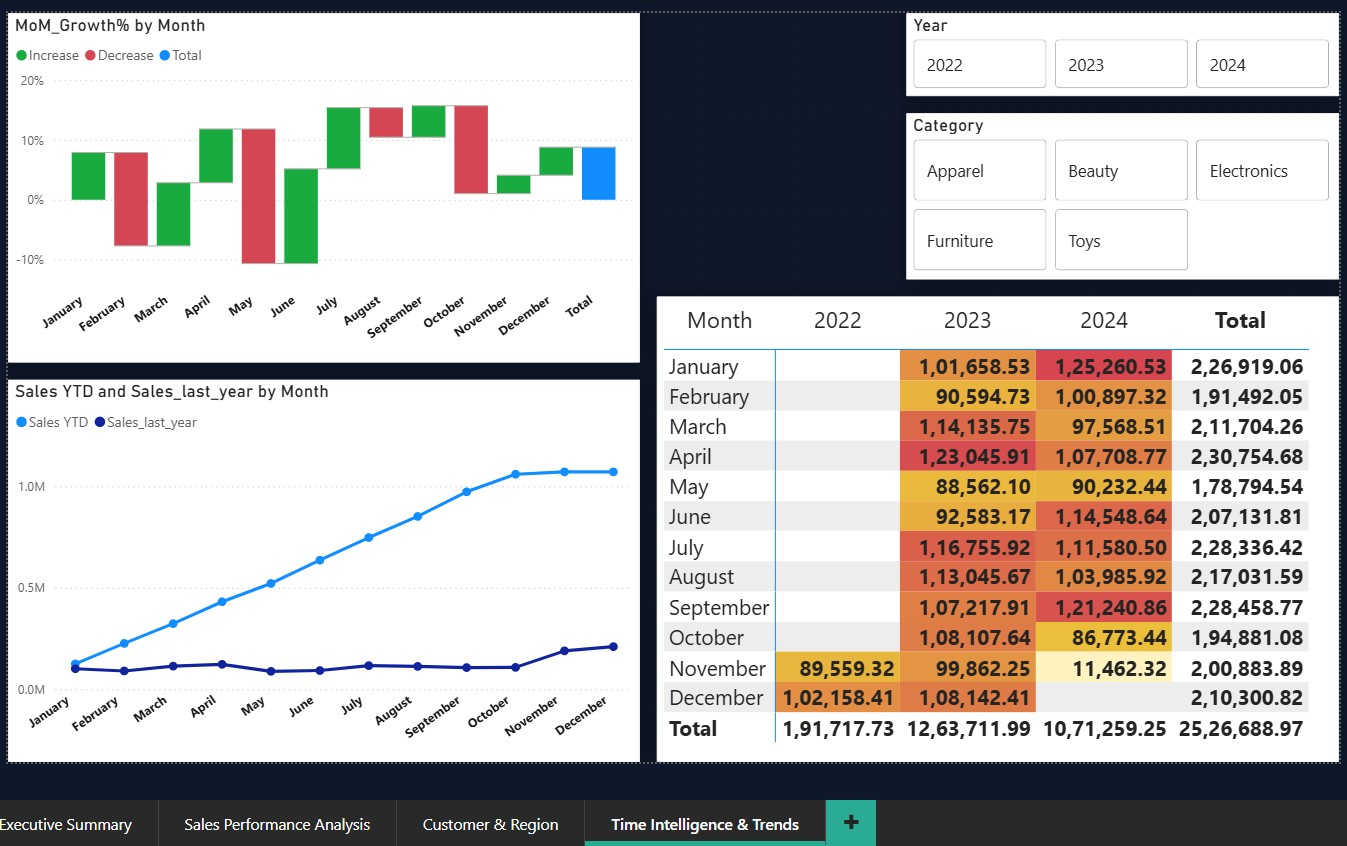

What the dashboard file says about the page in this screenshot:
{"tool":"powerbi","page":{"name":"Time Intelligence & Trends","canvas":[1280,720],"ordinal":3},"visuals":[{"type":"lineChart","fields":{"Category":["Dim_date.Date.Variation.Date Hierarchy.Year","Dim_date.Date.Variation.Date Hierarchy.Month"],"Y":["Orders.Sales YTD","Orders.Sales_last_year"]},"box":[0,352,608,368],"z":0},{"type":"waterfallChart","fields":{"Category":["Dim_date.Date.Variation.Date Hierarchy.Month"],"Y":["Orders.MoM_Growth%"]},"box":[0,0,608,336],"z":1000},{"type":"pivotTable","fields":{"Values":["Orders.Total_sales"],"Columns":["Dim_date.Date.Variation.Date Hierarchy.Year"],"Rows":["Dim_date.Date.Variation.Date Hierarchy.Month"]},"box":[624,272,656,448],"z":2000},{"type":"advancedSlicerVisual","fields":{"Values":["Dim_date.Date.Variation.Date Hierarchy.Year"]},"box":[864,0,416,80],"z":3000},{"type":"advancedSlicerVisual","fields":{"Values":["Products.Category"]},"box":[864,96,416,160],"z":4000}]}

Visuals, with their boxes in screenshot pixels (x1, y1, x2, y2):
lineChart - Dim_date.Date.Variation.Date Hierarchy.Year x Dim_date.Date.Variation.Date Hierarchy.Month: (x1=4, y1=376, x2=634, y2=758)
waterfallChart - Dim_date.Date.Variation.Date Hierarchy.Month x Orders.MoM_Growth%: (x1=4, y1=11, x2=634, y2=359)
pivotTable - Orders.Total_sales x Dim_date.Date.Variation.Date Hierarchy.Year: (x1=651, y1=293, x2=1332, y2=758)
advancedSlicerVisual - Dim_date.Date.Variation.Date Hierarchy.Year: (x1=900, y1=11, x2=1332, y2=94)
advancedSlicerVisual - Products.Category: (x1=900, y1=110, x2=1332, y2=276)
